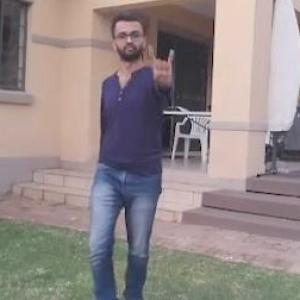takeoff-hand: (145, 39, 181, 96)
